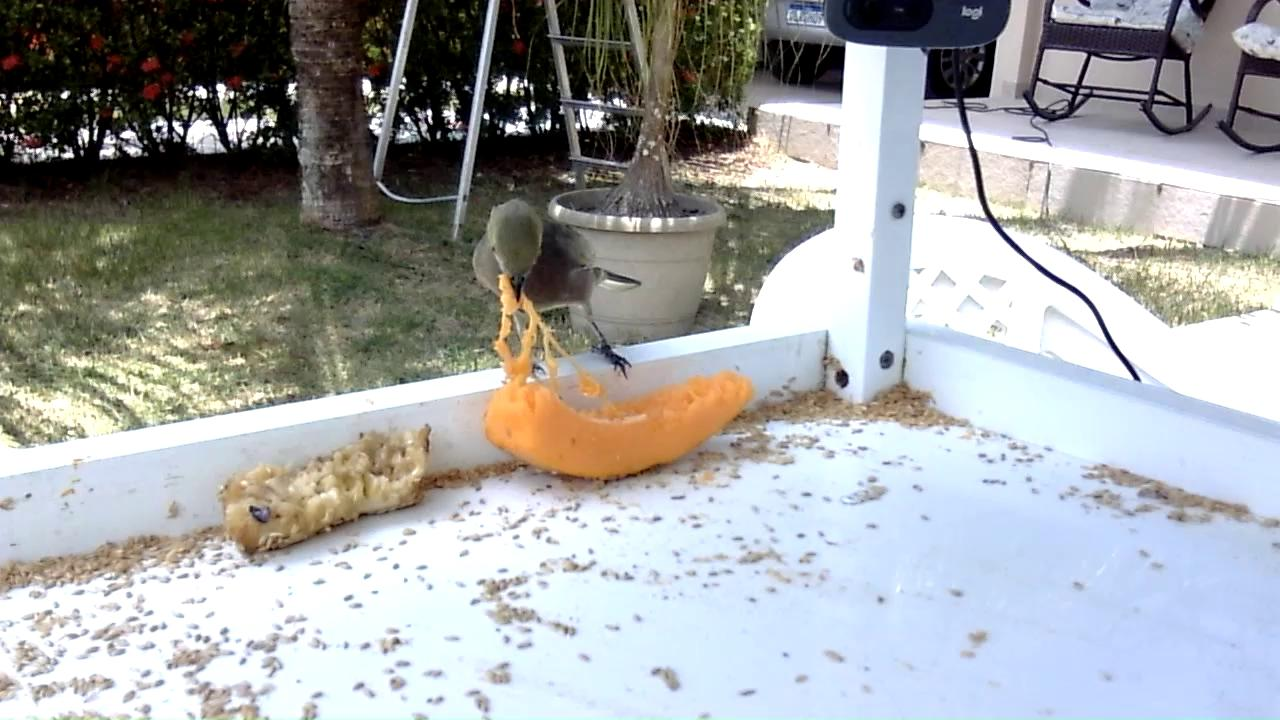sanhaco_do_coqueiro: (470, 197, 646, 383)
